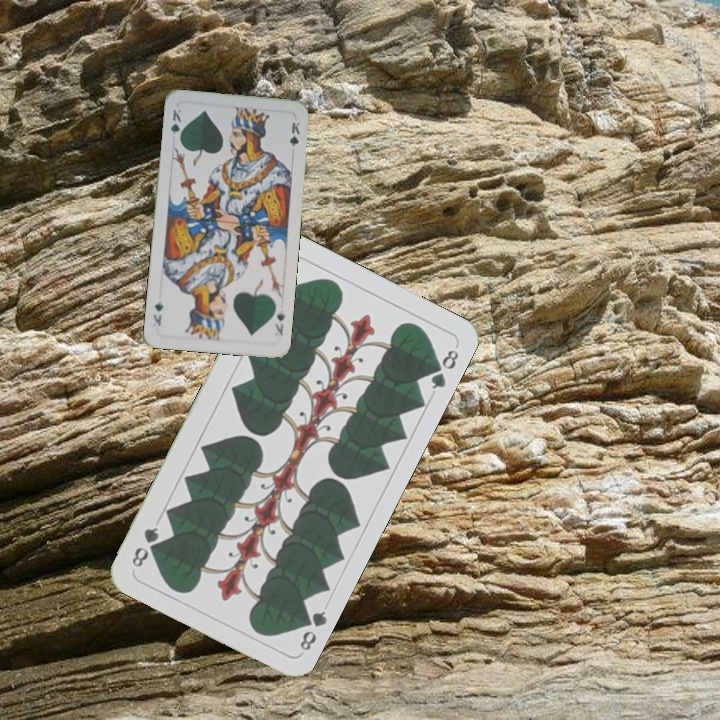G8: (294, 606, 329, 654)
GK: (166, 105, 184, 145), (270, 306, 287, 337)
